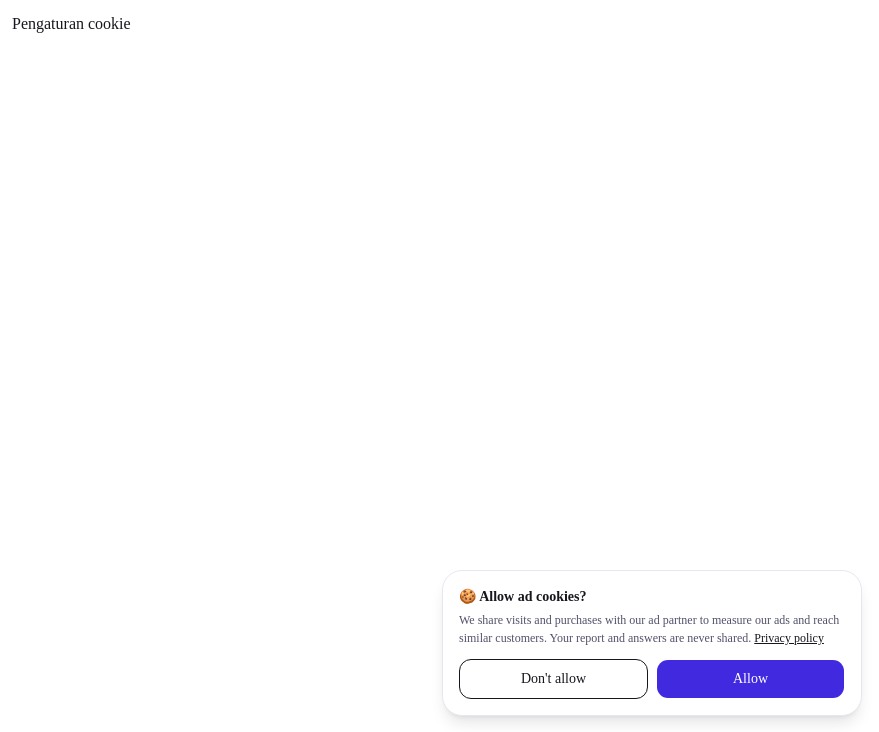
with a Pixel ID › Don't allow loads nothing, now or on the next visit (R-11)
What coordinates should you click on to do the following:
click the button "Don't allow"
I would click on:
 (554, 679)
Its box is [459,659,648,699].
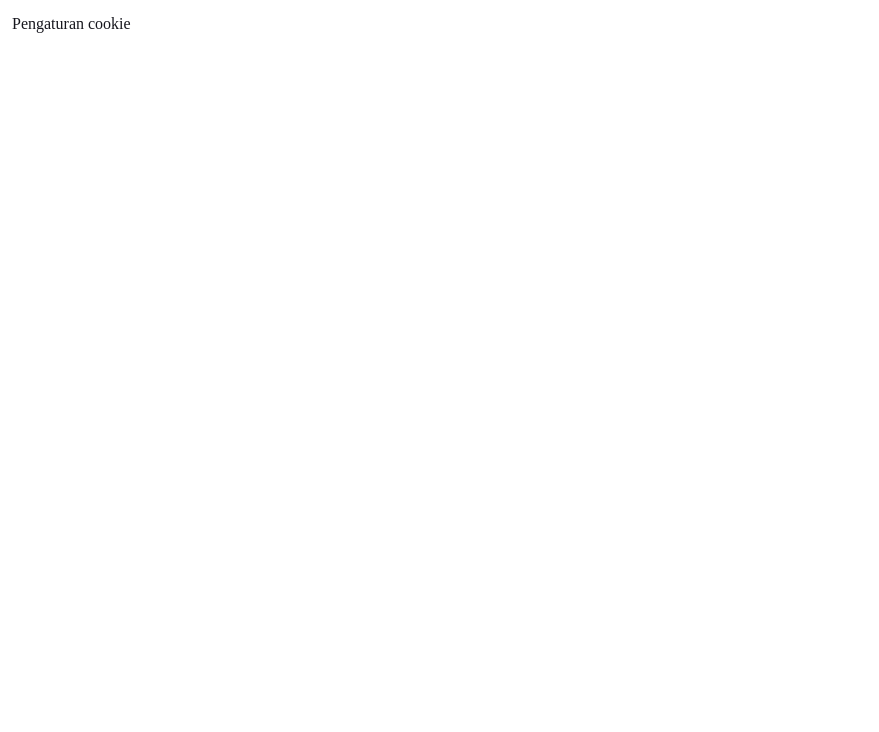
Expected: the heading "🍪 Allow ad cookies?" is gone
